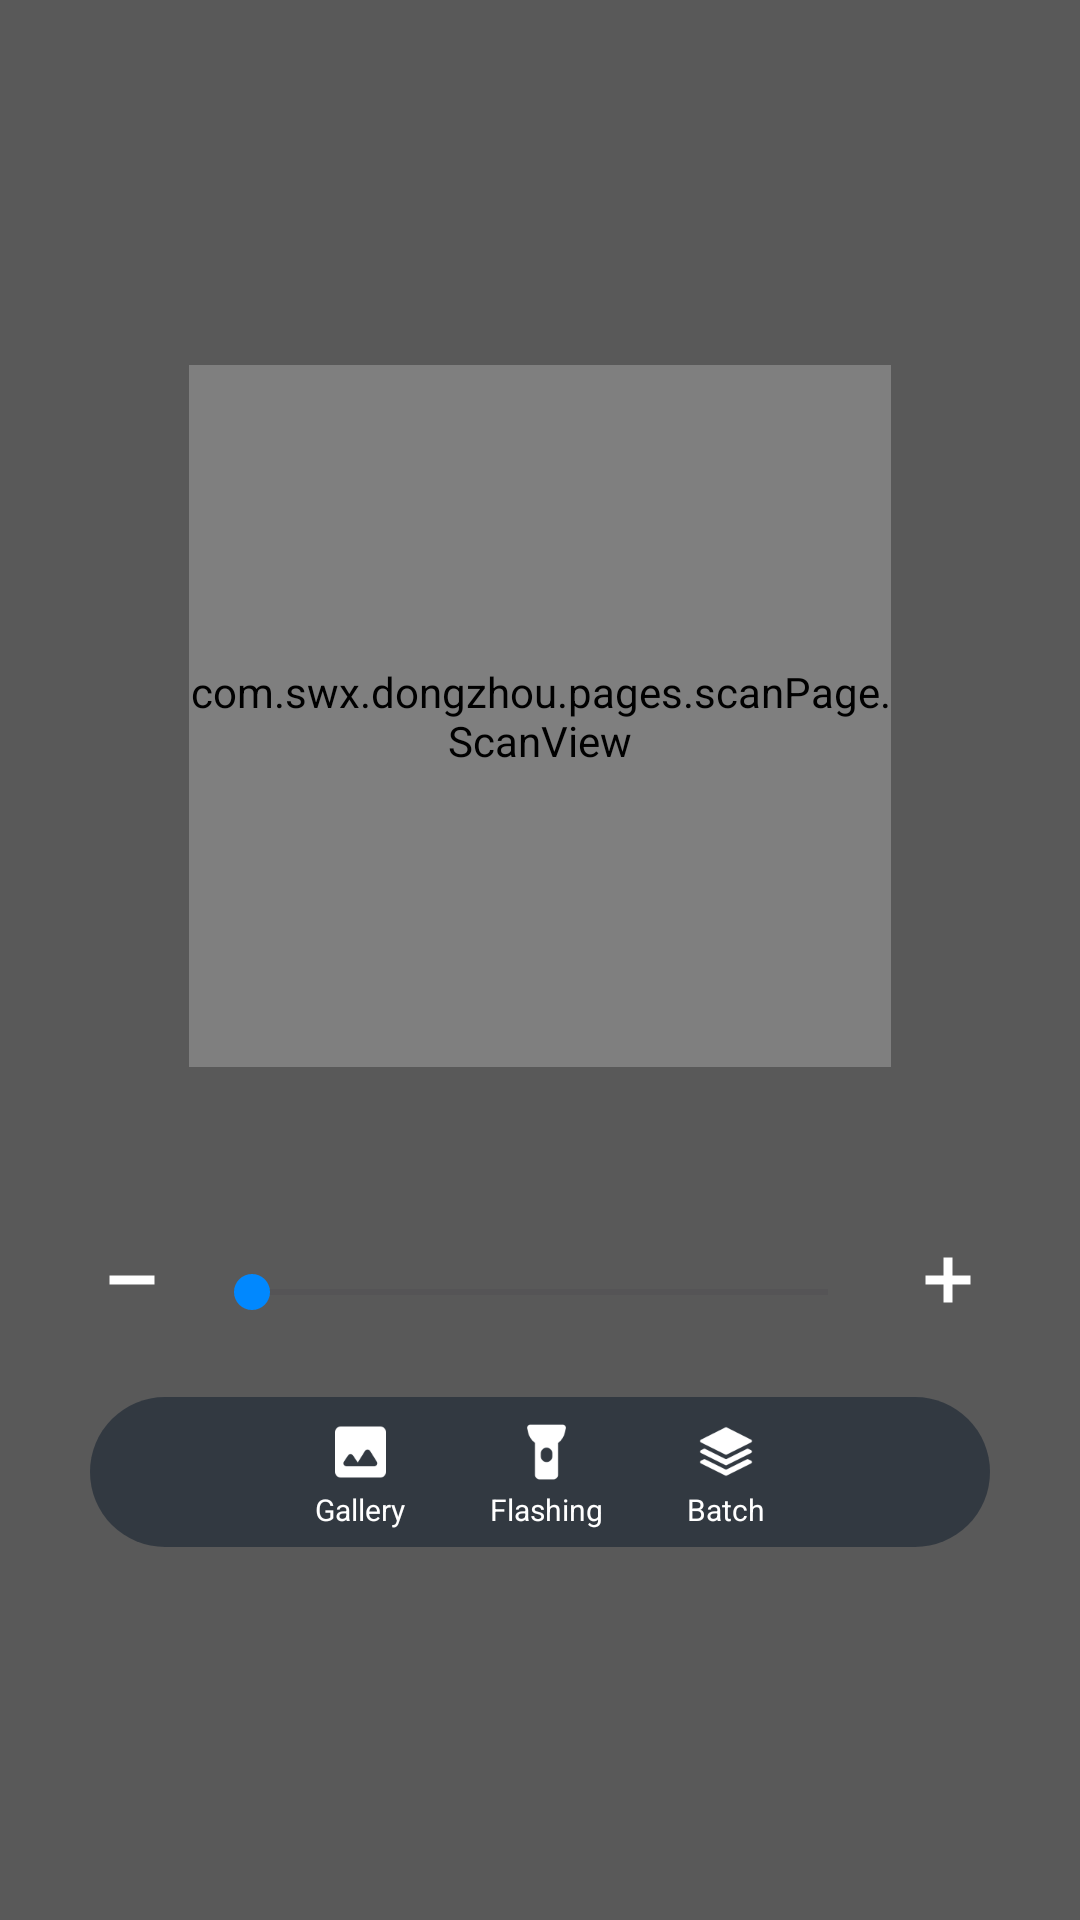

Screen size 1080 × 1920. Icon name, then its center in pixels as point (x, y):
放大: point (948, 1280)
缩小: point (132, 1280)
